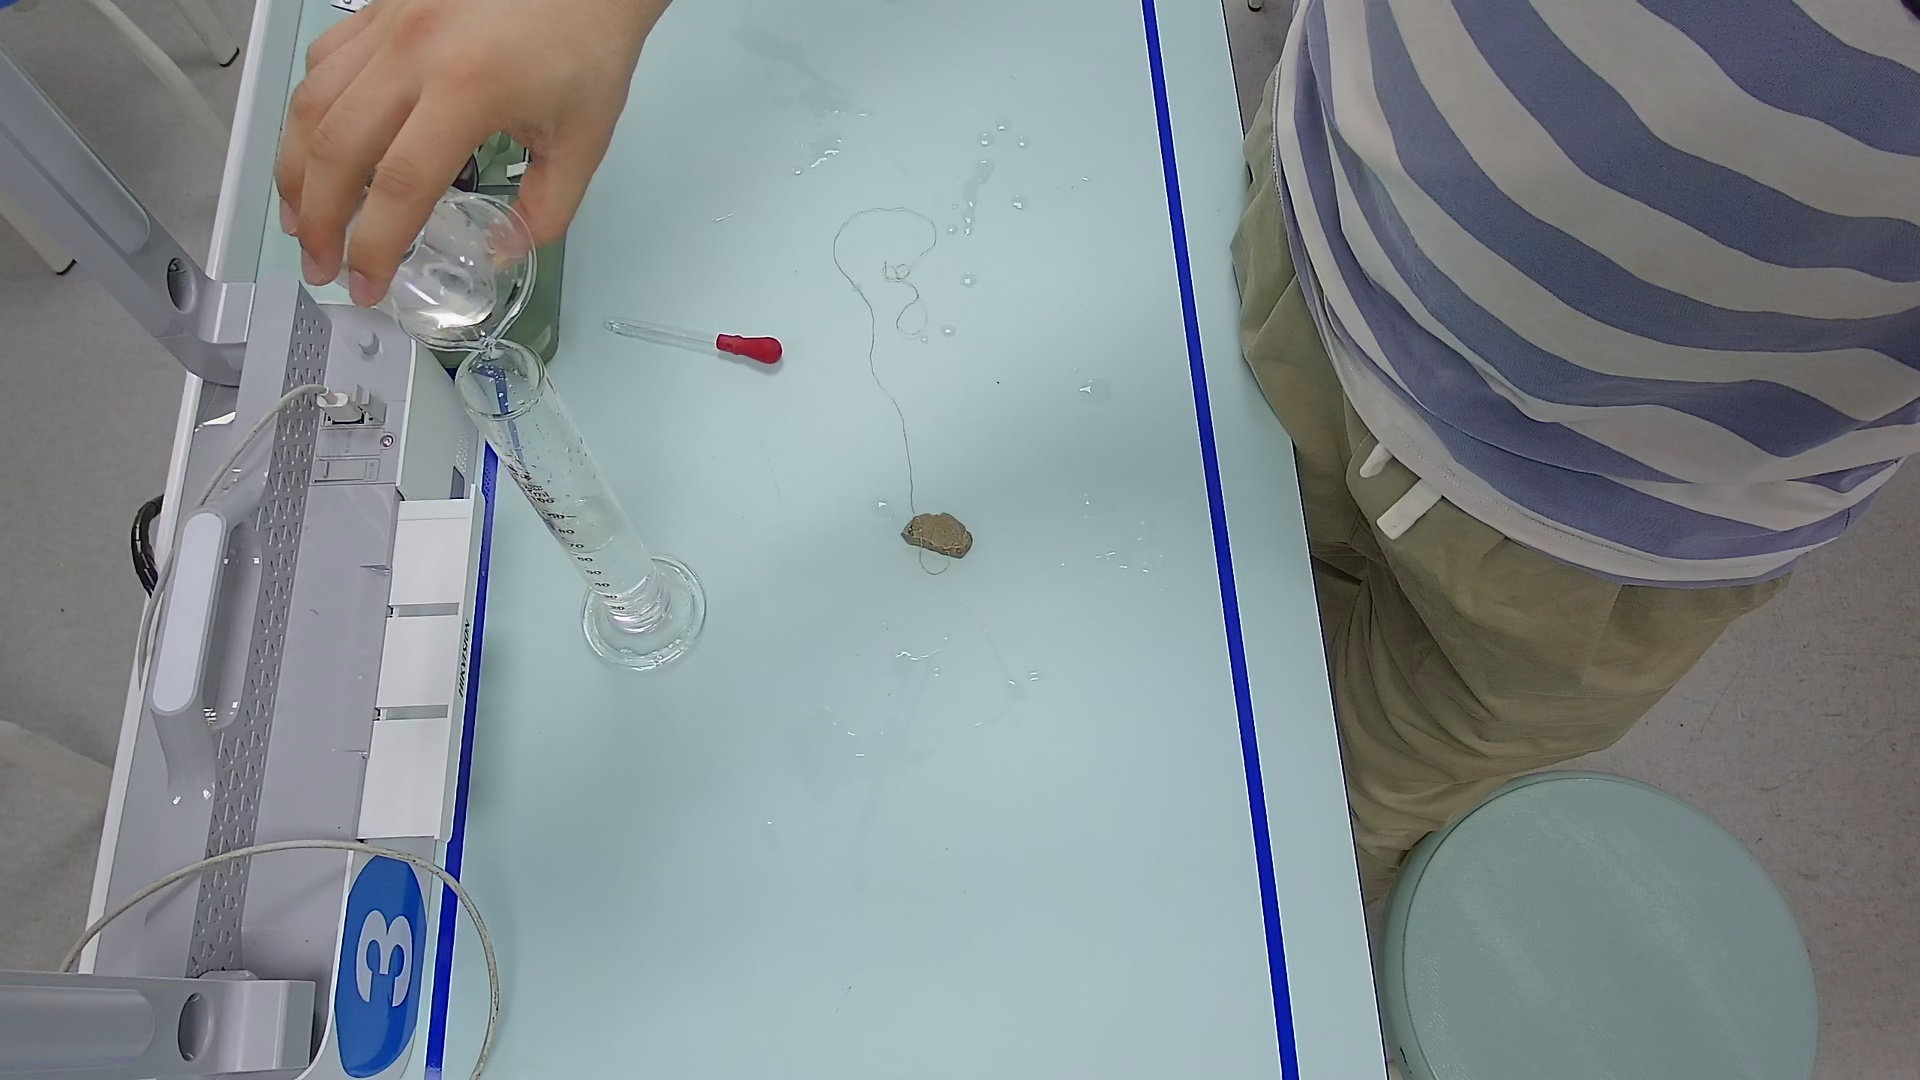ao: (554, 492, 625, 550)
bei: (345, 173, 538, 353)
diguan: (587, 303, 778, 378)
diguantou: (713, 322, 785, 373)
hand: (274, 25, 582, 291)
liangdi: (578, 556, 703, 678)
liangtong: (440, 338, 712, 673)
shi: (895, 506, 981, 553)
